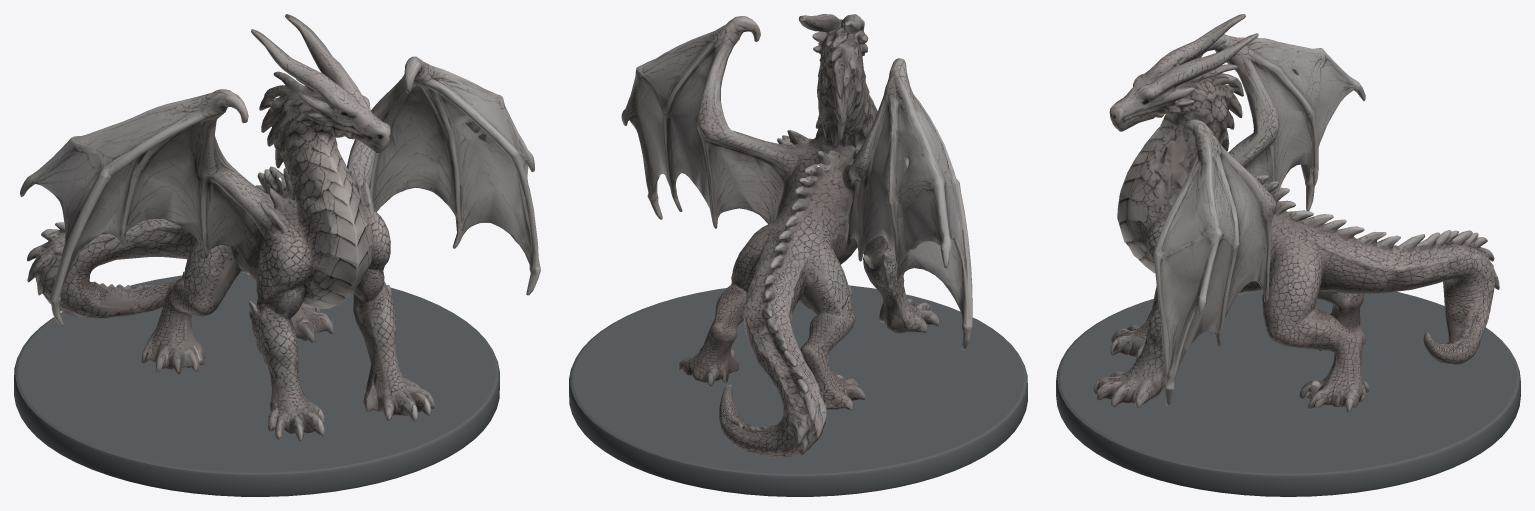
The model's file is dragon-hybrid-9948211a73df.glb.
The picture shows the model from 3 angles, left to right: view 1: azimuth 30°, elevation 25°; view 2: azimuth 150°, elevation 25°; view 3: azimuth 270°, elevation 25°; orthographic projection. The views are drawn at different scales.
Parts seen in each view (by area): view 1: comparison-dragon-hybrid_body, comparison-dragon-hybrid_round_base; view 2: comparison-dragon-hybrid_body, comparison-dragon-hybrid_round_base; view 3: comparison-dragon-hybrid_body, comparison-dragon-hybrid_round_base.
Boxes of the visible parts, <box> form: comparison-dragon-hybrid_body: <box>20,14,540,441</box>; comparison-dragon-hybrid_round_base: <box>14,272,499,496</box>; comparison-dragon-hybrid_body: <box>621,14,972,458</box>; comparison-dragon-hybrid_round_base: <box>569,285,1027,496</box>; comparison-dragon-hybrid_body: <box>1093,14,1499,412</box>; comparison-dragon-hybrid_round_base: <box>1056,290,1520,496</box>.
Bounding box in the file's own units: 1.05 × 0.8865 × 1.
Materials: 2 (1 with a texture image).
